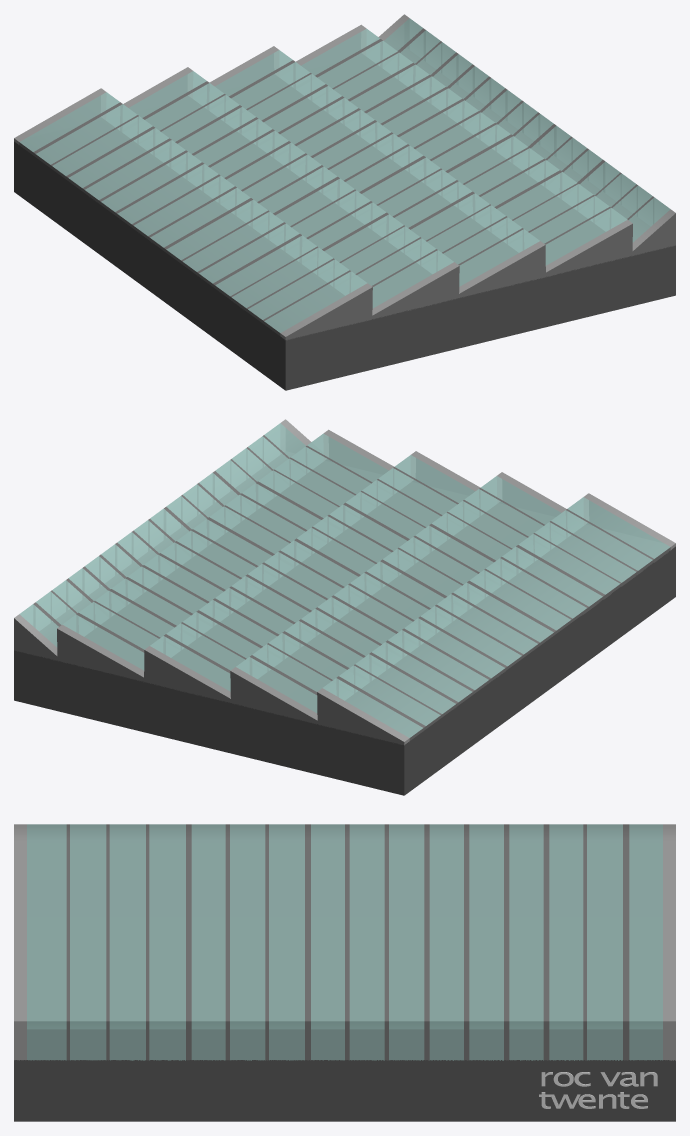
The picture shows the model from 3 angles, top to bottom: view 1: azimuth 30°, elevation 25°; view 2: azimuth 150°, elevation 25°; view 3: azimuth 270°, elevation 25°; orthographic projection. The views are drawn at different scales.
Parts seen in each view (by area): view 1: pCube2, pCube1; view 2: pCube2, pCube1; view 3: pCube1, pCube2, typeMesh1.
Part boxes in pixels (x1,y1,x2,y2): pCube2: (14,14,675,340); pCube1: (14,47,675,390); pCube2: (14,419,675,745); pCube1: (14,452,675,795); pCube1: (14,828,675,1121); pCube2: (14,824,675,1060); typeMesh1: (539,1072,657,1108).
Size of the model in its own units: 102 by 20.51 by 122.
